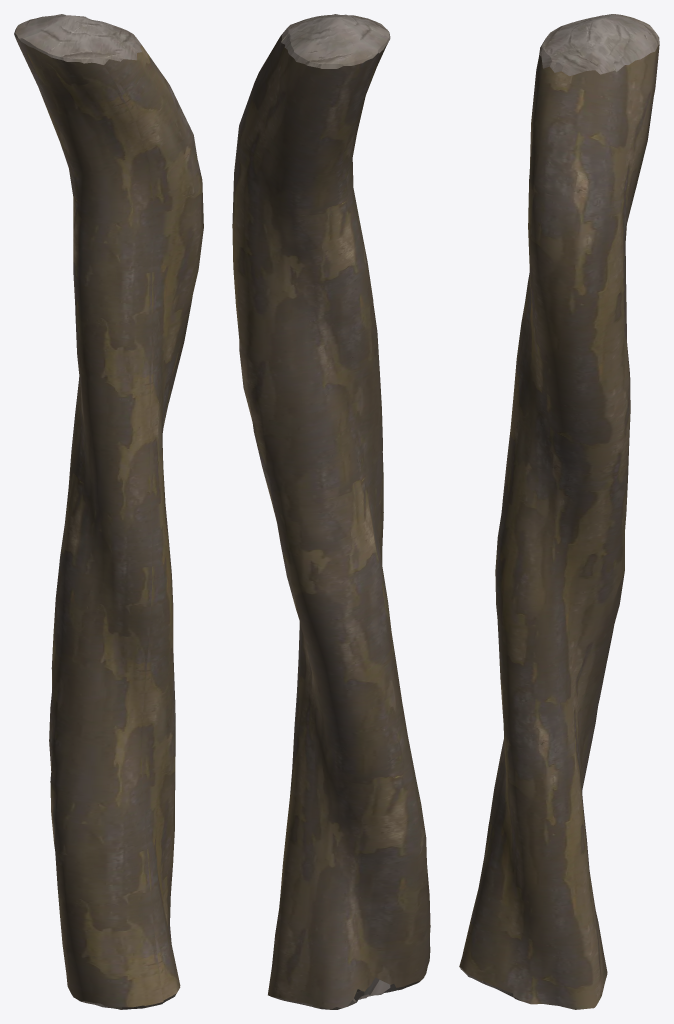
3 views of the same model, side by side, from view 1: azimuth 30°, elevation 25°; view 2: azimuth 150°, elevation 25°; view 3: azimuth 270°, elevation 25° (orthographic). The views are drawn at different scales.
Parts seen in each view (by area): view 1: SM_Yew_01_full_LOD0; view 2: SM_Yew_01_full_LOD0; view 3: SM_Yew_01_full_LOD0.
Part boxes in pixels (x1,y1,x2,y2): SM_Yew_01_full_LOD0: [14, 14, 203, 1009]; SM_Yew_01_full_LOD0: [232, 14, 430, 1009]; SM_Yew_01_full_LOD0: [459, 14, 659, 1009].
Size of the model in its own units: 1.35 by 7.93 by 1.49.
Materials: 1 (1 with a texture image).
